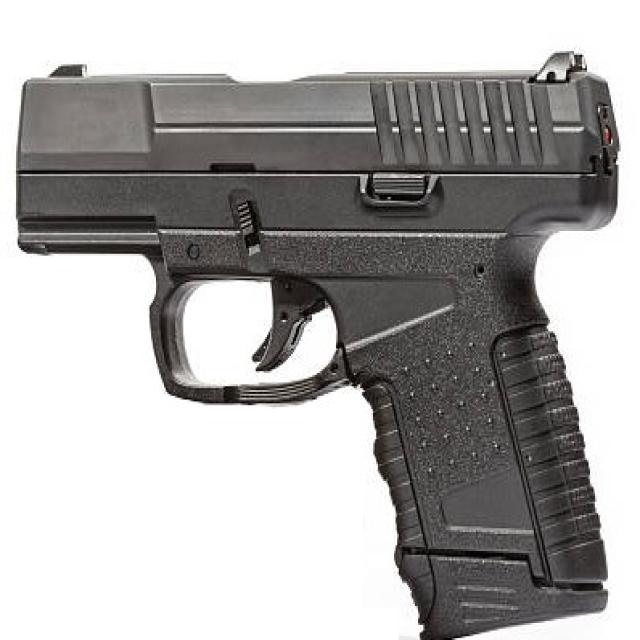pistol: (2, 37, 623, 640)
